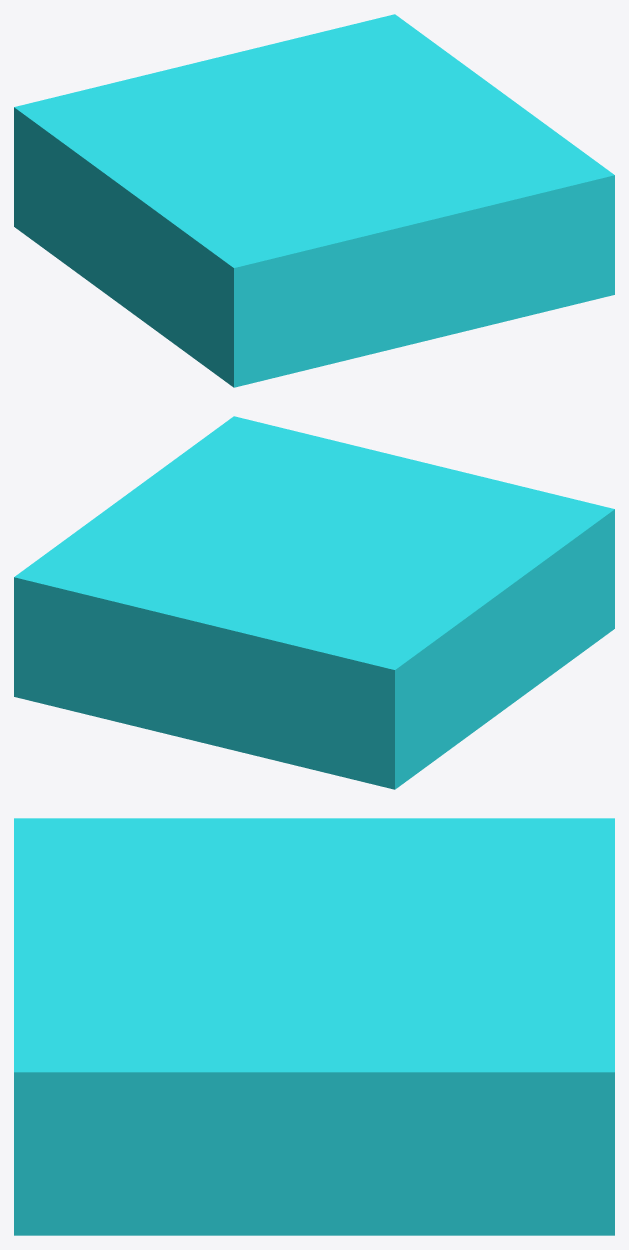
File: WaterBlockFilled_3.fbx
The picture shows the model from 3 angles, top to bottom: view 1: azimuth 30°, elevation 25°; view 2: azimuth 150°, elevation 25°; view 3: azimuth 270°, elevation 25°; orthographic projection. The views are drawn at different scales.
Parts seen in each view (by area): view 1: WaterBlockFilled_3; view 2: WaterBlockFilled_3; view 3: WaterBlockFilled_3.
Part boxes in pixels (x1,y1,x2,y2): WaterBlockFilled_3: [14, 14, 614, 387]; WaterBlockFilled_3: [14, 416, 614, 789]; WaterBlockFilled_3: [14, 818, 614, 1235].
Size of the model in its own units: 1 by 0.3 by 1.
Materials: 1 (1 with a texture image).
